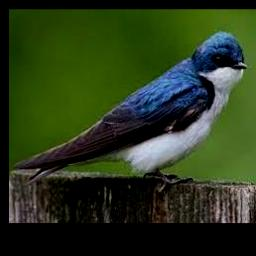Swallow: (13, 29, 248, 187)
